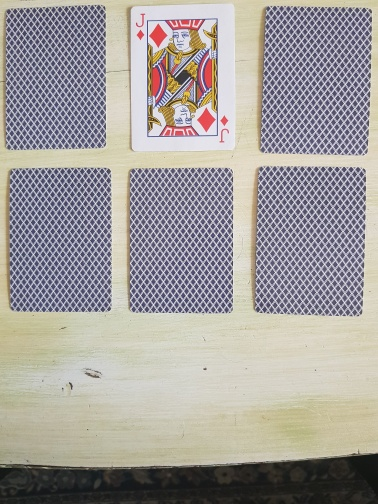jack: (128, 3, 237, 152)
